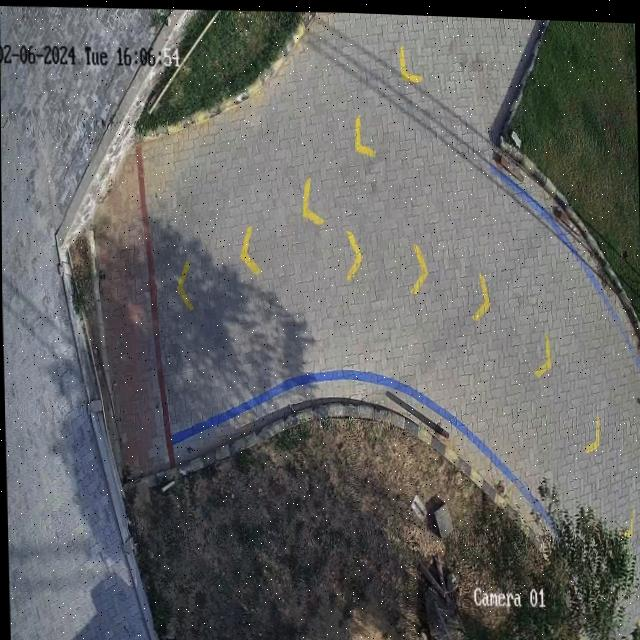No Car: (0, 6, 640, 640)
